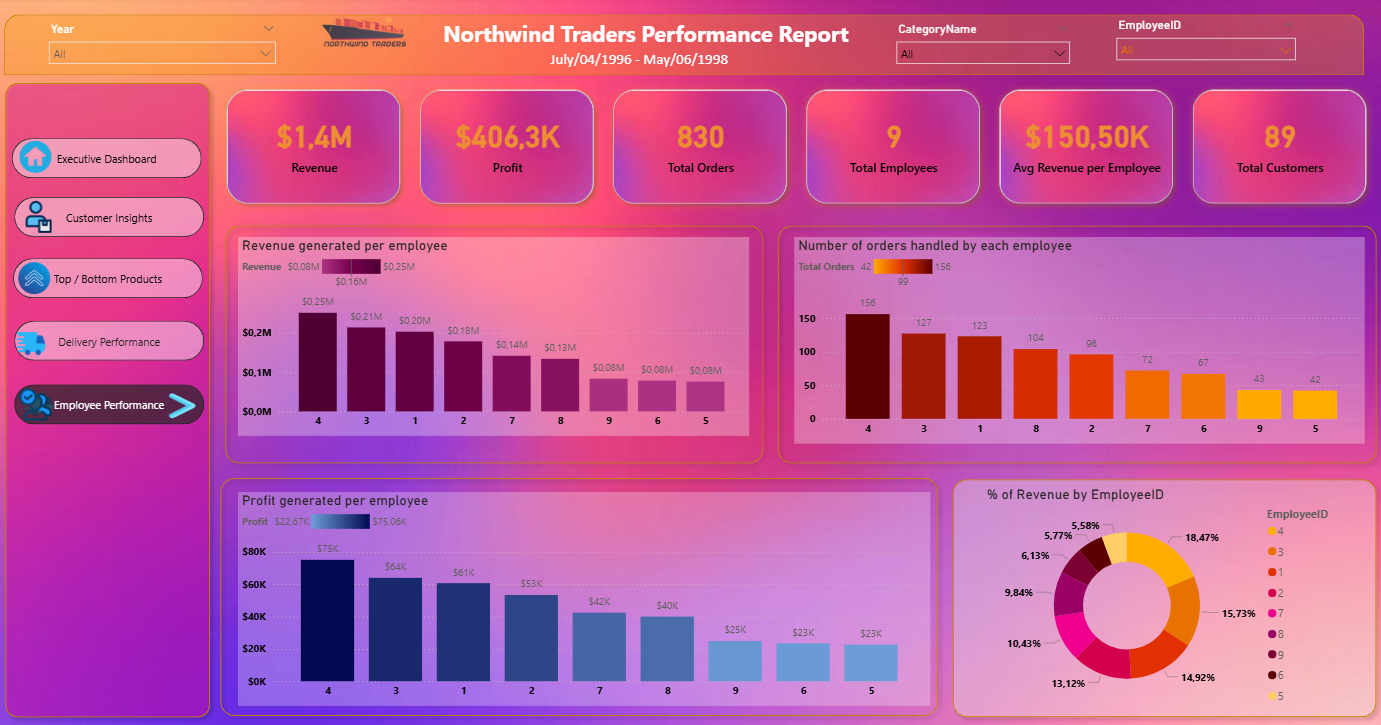

The page's visual inventory and layout, read from the dashboard file:
{"tool":"powerbi","page":{"name":"Employee Performance","canvas":[1700,900],"ordinal":4},"visuals":[{"type":"cardVisual","fields":{"Data":["Measures_table.Revenue","Measures_table.Profit","Measures_table.OrderCount","Measures_table.Total Employees","Measures_table.Avg Revenue per Employee","Measures_table.Total Customers"]},"box":[264.3,96.6,1436.1,175],"z":0},{"type":"shape","box":[7.8,21.8,1668.5,74.6],"z":1000},{"type":"textbox","box":[426.1,21.8,737,49.8],"z":2000},{"type":"textbox","box":[494.5,59.1,586.2,37.3],"z":3000},{"type":"image","box":[379.4,0,138.4,79.3],"z":4000},{"type":"shape","box":[269.7,271.5,678,309.8],"z":5000},{"type":"shape","box":[947.7,271.5,752.7,309.8],"z":6000},{"type":"shape","box":[264.3,581.4,898.5,309.8],"z":7000},{"type":"shape","box":[1162.7,583.2,537.6,309.8],"z":8000},{"type":"shape","box":[0,96.4,269,796.1],"z":9000},{"type":"slicer","fields":{"Values":["categories.CategoryName"]},"box":[1091.6,26.4,233.2,63.8],"z":10000},{"type":"slicer","fields":{"Values":["employees.EmployeeID"]},"box":[1361.4,21.9,240.6,74.7],"z":11000},{"type":"pageNavigator","box":[17.1,172.6,233.2,49.8],"z":12000},{"type":"pageNavigator","box":[18.2,320.8,233.3,49.2],"z":13000},{"type":"slicer","fields":{"Values":["Dates.Date.Variation.Date Hierarchy.Year"]},"box":[52.9,25.5,298.9,65.6],"z":14000},{"type":"image","box":[16.4,320.8,54.7,49.2],"z":20000},{"type":"image","box":[18.2,171.3,54.7,49.2],"z":21000},{"type":"pageNavigator","box":[20,397.3,233.3,49.2],"z":22000},{"type":"image","box":[21.9,475.7,56.5,49.2],"z":23000},{"type":"clusteredColumnChart","title":"Number of orders handled by each employee","fields":{"Y":["Measures_table.OrderCount"],"Category":["employees.EmployeeID"]},"box":[976.8,295.2,699.8,253.3],"z":24000},{"type":"clusteredColumnChart","title":"Revenue generated per employee","fields":{"Y":["Measures_table.SalesAmount"],"Category":["employees.EmployeeID"]},"box":[295.2,295.2,626.9,244.2],"z":25000},{"type":"clusteredColumnChart","title":"Profit generated per employee","fields":{"Y":["Measures_table.Profit"],"Category":["employees.EmployeeID"]},"box":[295.2,606.9,849.3,262.4],"z":26000},{"type":"donutChart","title":"% of Revenue by EmployeeID","fields":{"Y":["Measures_table.Revenue"],"Category":["employees.EmployeeID"]},"box":[1208.3,599.6,446.5,275.2],"z":28000},{"type":"pageNavigator","box":[20,475.7,233.3,49.2],"z":29000},{"type":"image","box":[14.6,475.7,62,49.2],"z":30000},{"type":"pageNavigator","box":[20,246,233.3,49.2],"z":31000},{"type":"image","box":[21.9,246,56.5,49.2],"z":32000},{"type":"image","box":[12.8,400.9,56.5,49.2],"z":33000},{"type":"image","box":[202.3,481.1,47.4,40.1],"z":34000}]}

Visuals, with their boxes in screenshot pixels (x1, y1, x2, y2), scaled from the page's 1700x900 canvas onto the 1381x725 screenshot:
cardVisual - Measures_table.Revenue x Measures_table.Profit: <bbox>215, 78, 1380, 219</bbox>
shape: <bbox>6, 18, 1362, 78</bbox>
textbox: <bbox>346, 18, 945, 58</bbox>
textbox: <bbox>402, 48, 878, 78</bbox>
image: <bbox>308, 0, 421, 64</bbox>
shape: <bbox>219, 219, 770, 468</bbox>
shape: <bbox>770, 219, 1380, 468</bbox>
shape: <bbox>215, 468, 945, 718</bbox>
shape: <bbox>945, 470, 1380, 719</bbox>
shape: <bbox>0, 78, 219, 719</bbox>
slicer - categories.CategoryName: <bbox>887, 21, 1076, 73</bbox>
slicer - employees.EmployeeID: <bbox>1106, 18, 1301, 78</bbox>
pageNavigator: <bbox>14, 139, 203, 179</bbox>
pageNavigator: <bbox>15, 258, 204, 298</bbox>
slicer - Dates.Date.Variation.Date Hierarchy.Year: <bbox>43, 21, 286, 73</bbox>
image: <bbox>13, 258, 58, 298</bbox>
image: <bbox>15, 138, 59, 178</bbox>
pageNavigator: <bbox>16, 320, 206, 360</bbox>
image: <bbox>18, 383, 64, 423</bbox>
"Number of orders handled by each employee" clusteredColumnChart: <bbox>794, 238, 1362, 442</bbox>
"Revenue generated per employee" clusteredColumnChart: <bbox>240, 238, 749, 435</bbox>
"Profit generated per employee" clusteredColumnChart: <bbox>240, 489, 930, 700</bbox>
"% of Revenue by EmployeeID" donutChart: <bbox>982, 483, 1344, 705</bbox>
pageNavigator: <bbox>16, 383, 206, 423</bbox>
image: <bbox>12, 383, 62, 423</bbox>
pageNavigator: <bbox>16, 198, 206, 238</bbox>
image: <bbox>18, 198, 64, 238</bbox>
image: <bbox>10, 323, 56, 363</bbox>
image: <bbox>164, 388, 203, 420</bbox>
